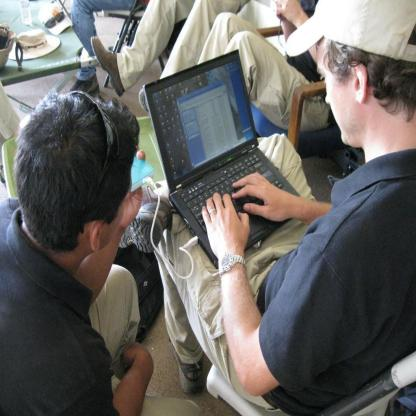board: (148, 47, 302, 268)
